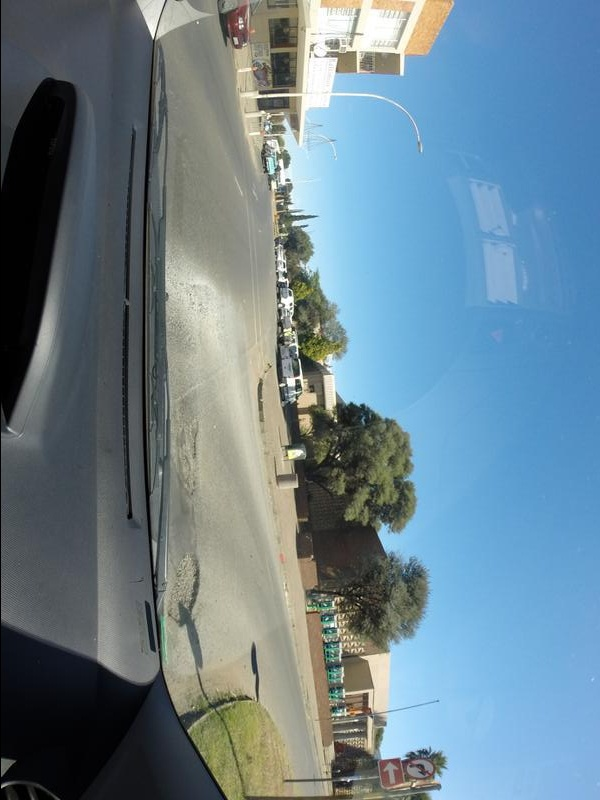pothole: (162, 551, 206, 629), (176, 419, 210, 505)
